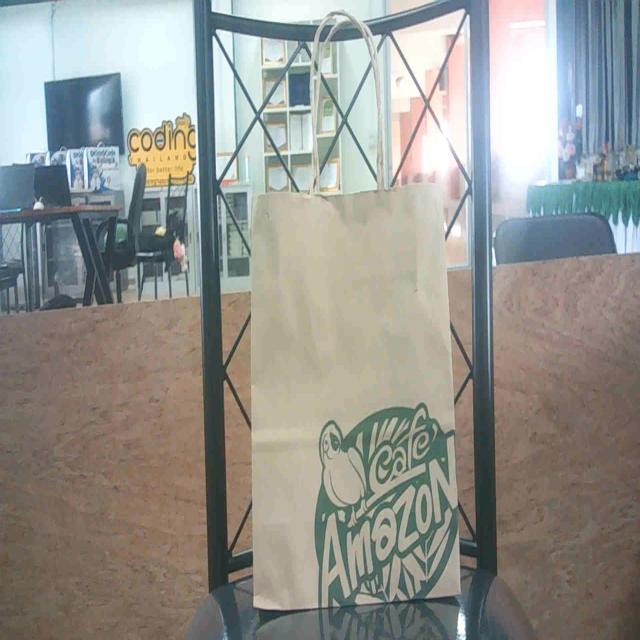bag: (255, 200, 459, 602)
